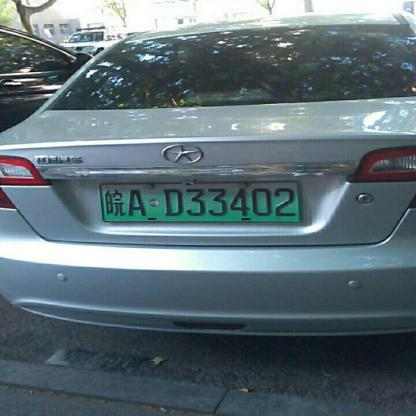lp: (101, 182, 300, 219)
